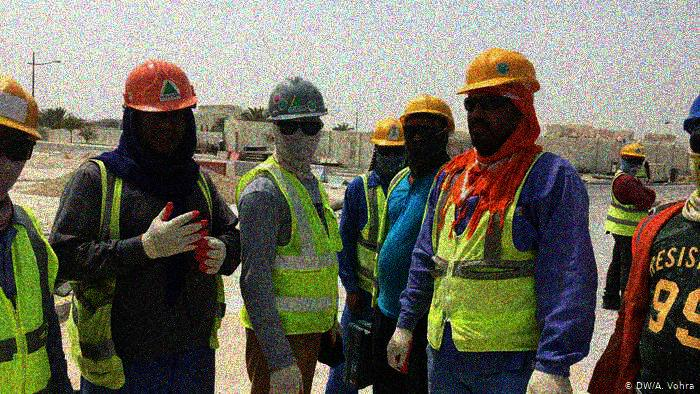helmet: (456, 47, 542, 146), (121, 59, 201, 156), (265, 77, 332, 162), (1, 72, 44, 202), (399, 95, 457, 166), (370, 117, 410, 173), (681, 84, 700, 188), (618, 141, 646, 176)
